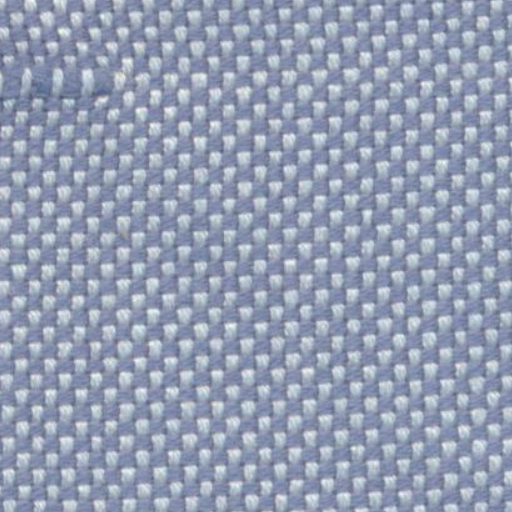DaiSha: (4, 47, 136, 106)
